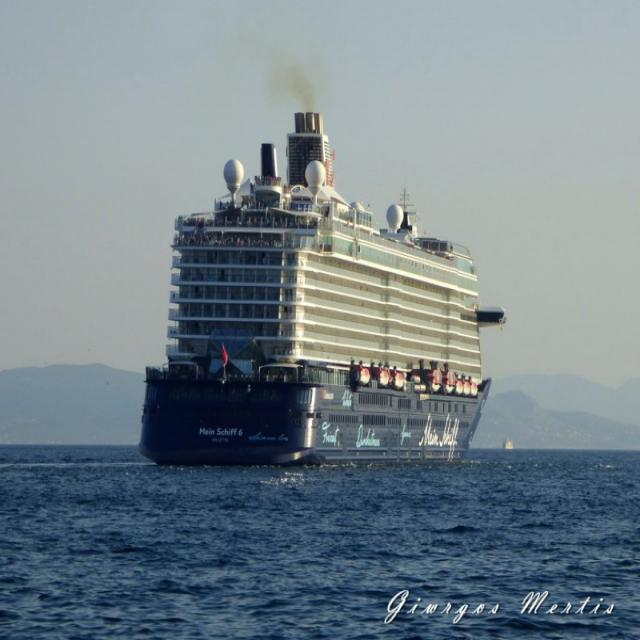cruises: (136, 109, 509, 474)
